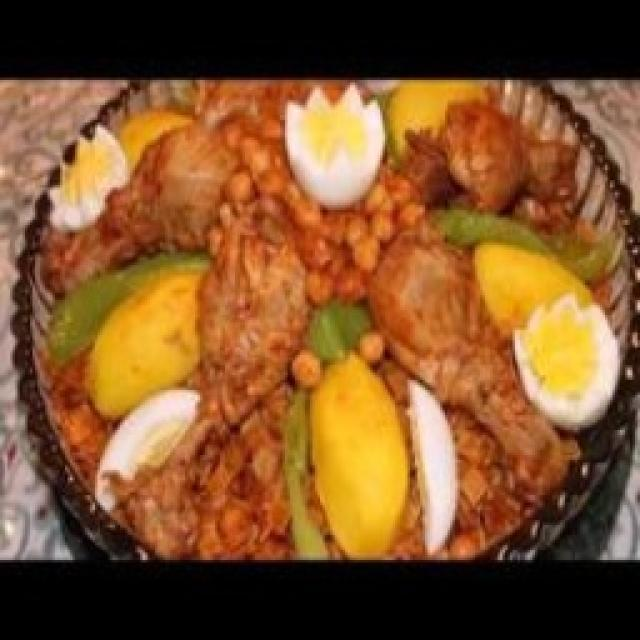Couscous: (19, 80, 640, 559)
